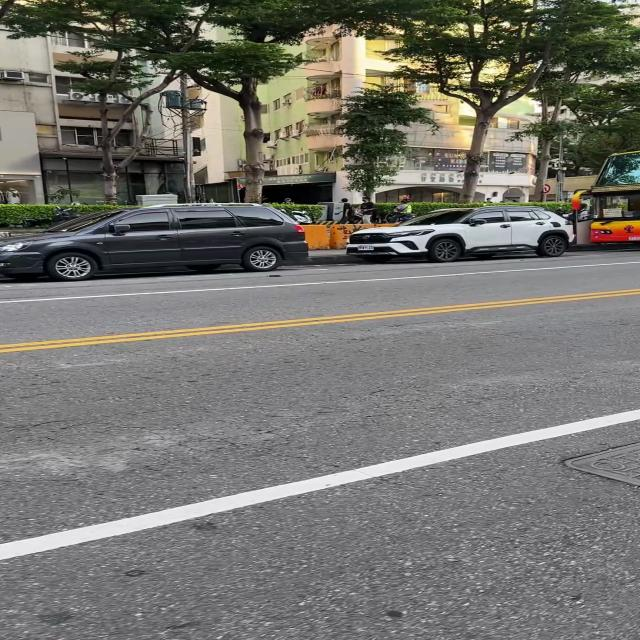bus: (589, 151, 640, 244)
car: (0, 204, 307, 280), (346, 205, 571, 262)
